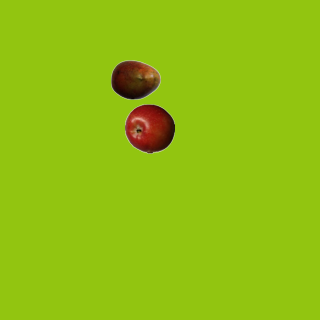Apple Braeburn: (124, 103, 174, 153)
Mango Red: (110, 54, 160, 104)
